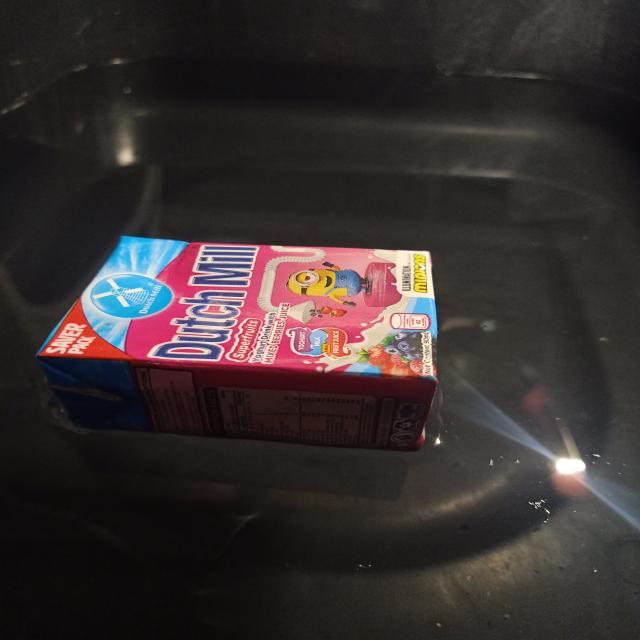Cardboard Box: (40, 237, 438, 451)
